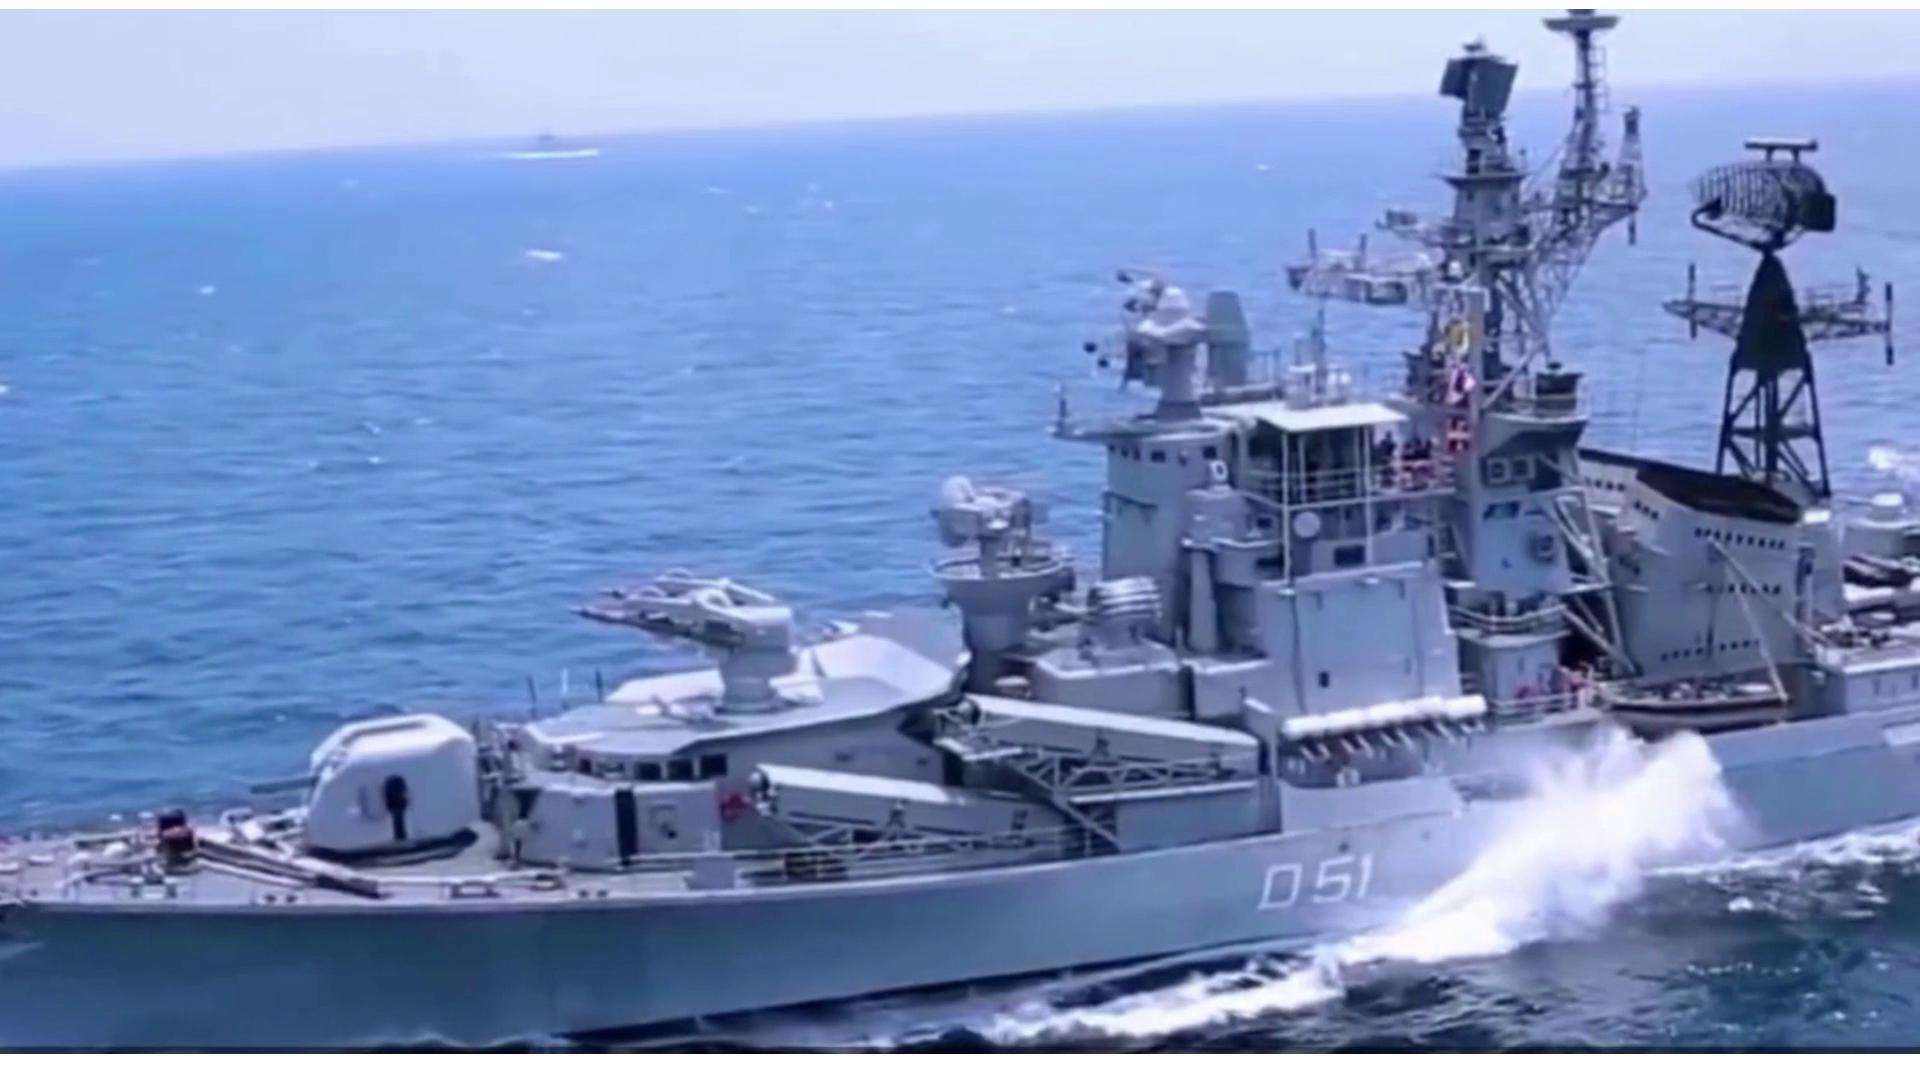OCR: (1242, 837, 1381, 923)
